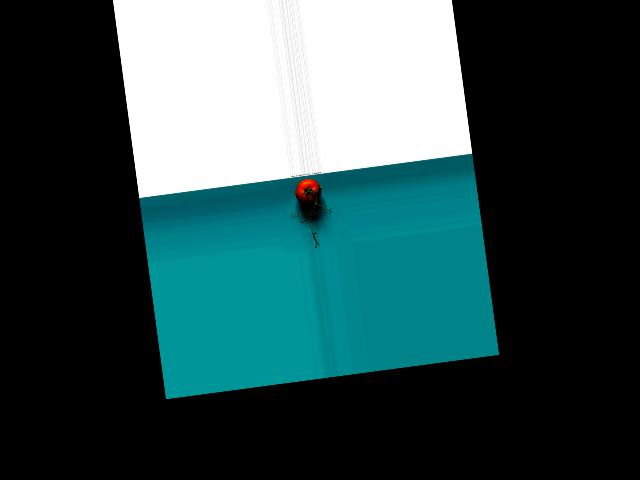tomato: (294, 177, 323, 206)
